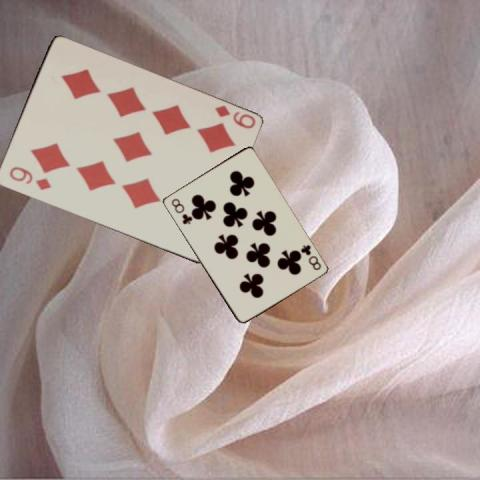8c: (168, 195, 193, 226), (297, 242, 322, 272)
9d: (5, 163, 53, 192), (211, 102, 257, 130)
